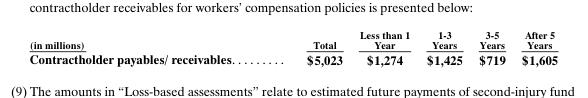table: (28, 28, 557, 66)
table column: (28, 28, 270, 66), (270, 28, 350, 66), (350, 28, 417, 66), (417, 28, 470, 66), (512, 28, 557, 66), (470, 28, 512, 66)
table column header: (28, 28, 557, 50)
table row: (28, 28, 557, 50), (28, 50, 557, 66)
